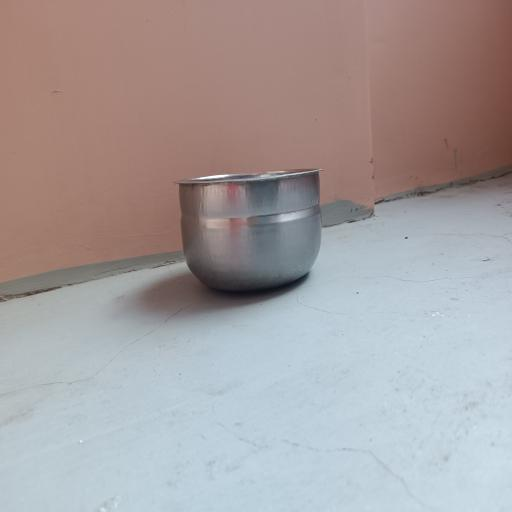vessel: (179, 170, 322, 290)
